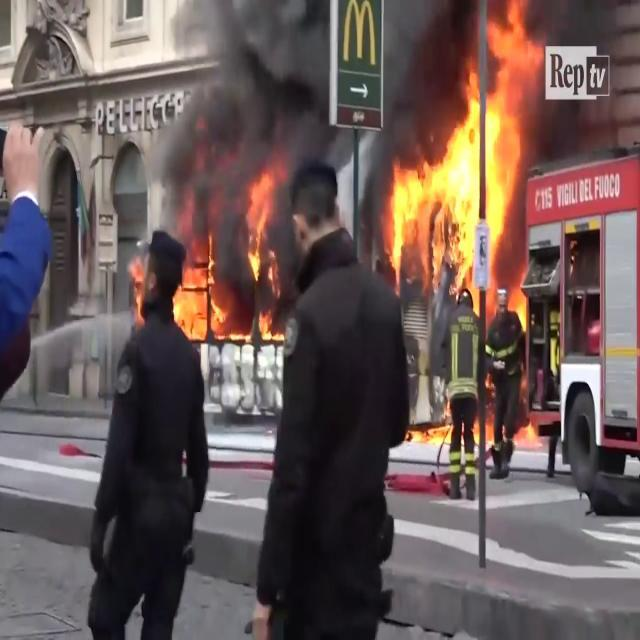Fire: (384, 5, 542, 303), (240, 158, 288, 342), (170, 244, 228, 344), (126, 250, 148, 326)
Smoke: (156, 0, 318, 238)
